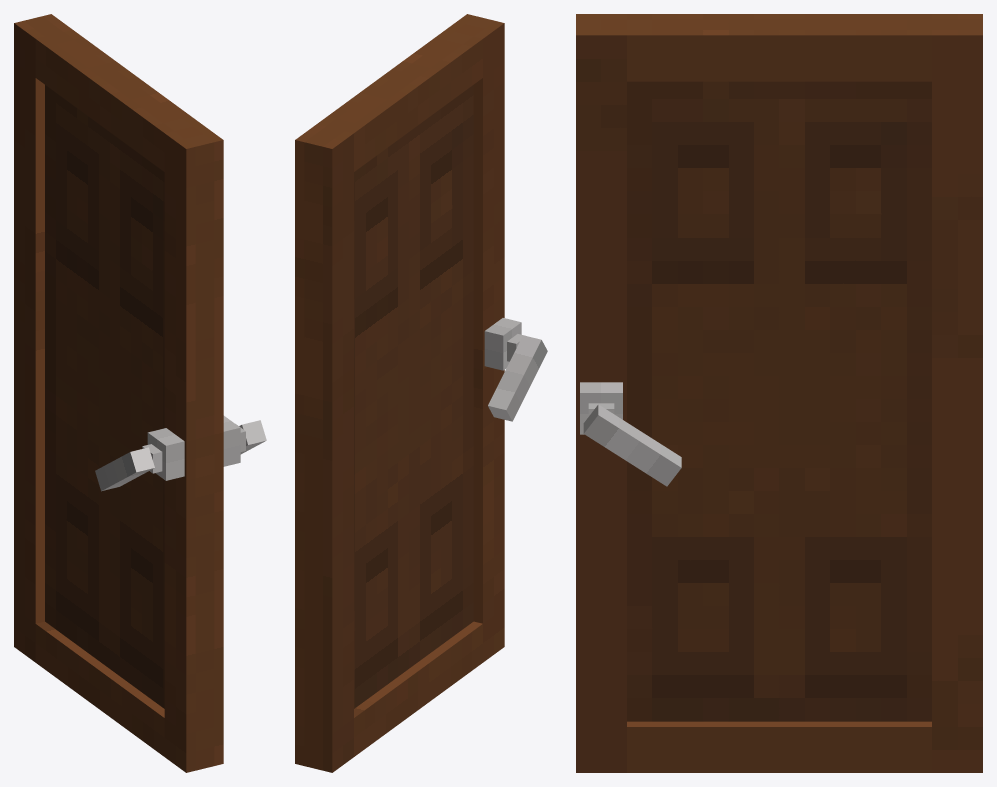
Rendered from door.obj.
3 renders of one model, left to right at view 1: azimuth 30°, elevation 25°; view 2: azimuth 150°, elevation 25°; view 3: azimuth 270°, elevation 25°, orthographic. The views are drawn at different scales.
Parts seen in each view (by area): view 1: cube; view 2: cube; view 3: cube.
Boxes of the visible parts, left/top/right/bottom form: cube: left=14, top=14, right=266, bottom=772; cube: left=295, top=14, right=547, bottom=772; cube: left=576, top=14, right=982, bottom=772.
Size of the model in its own units: 0.4375 by 2 by 1.
